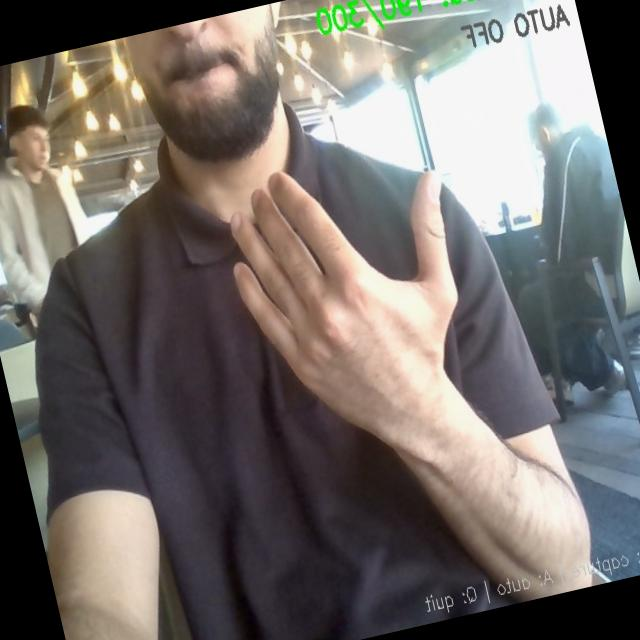Hand: (232, 172, 457, 445)
